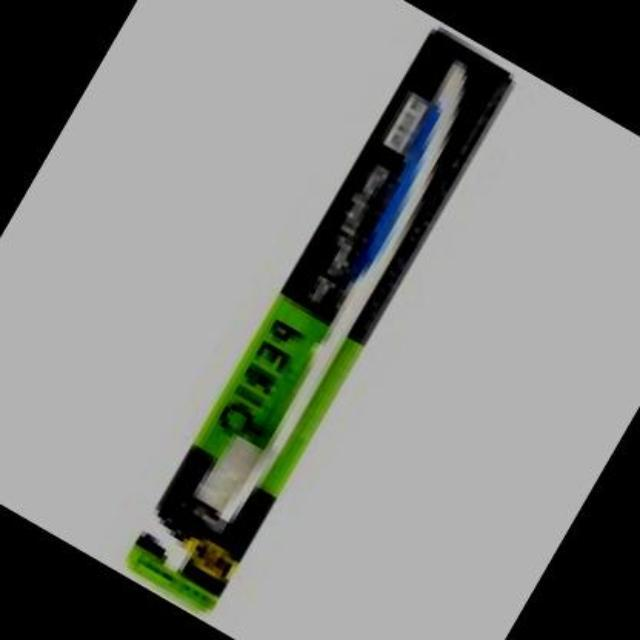toothbrush: (156, 24, 512, 540)
